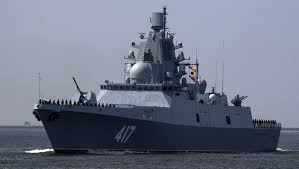tau_muctieu: (35, 23, 283, 152)
